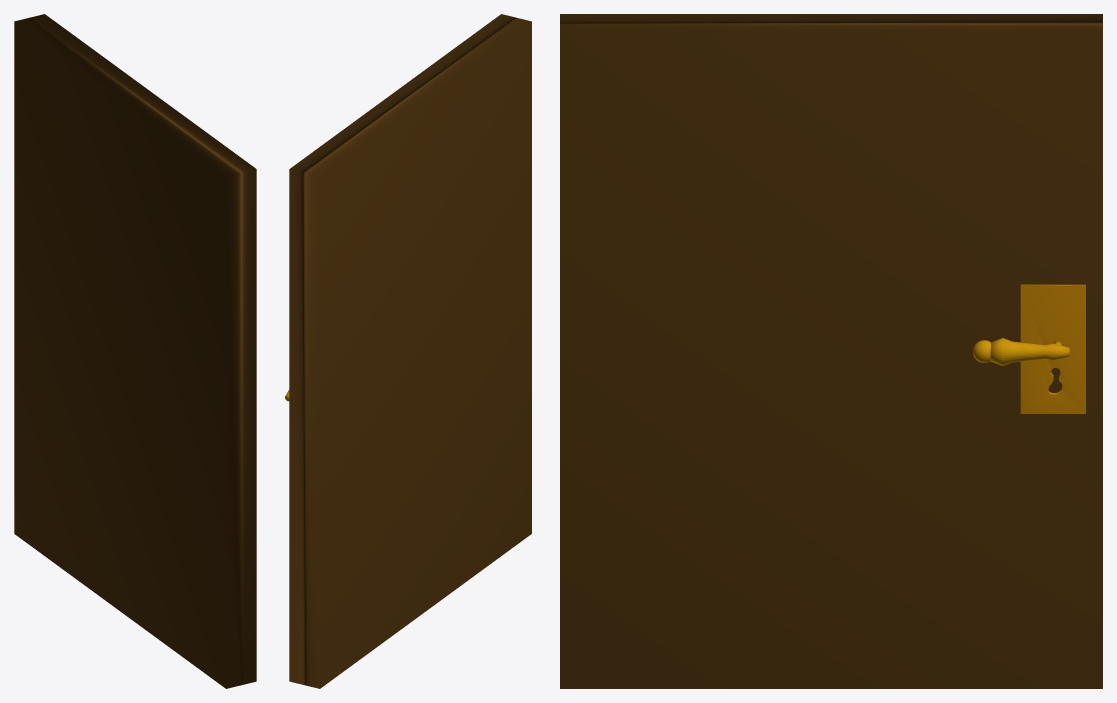
The model's file is Door.glb.
The picture shows the model from 3 angles, left to right: view 1: azimuth 30°, elevation 25°; view 2: azimuth 150°, elevation 25°; view 3: azimuth 270°, elevation 25°; orthographic projection. The views are drawn at different scales.
Visible parts, largest first — view 1: Cube; view 2: Cube; view 3: Cube, Cube.001, Sphere.
Boxes of the visible parts, bbox=[...] form: Cube: bbox=[14, 14, 256, 688]; Cube: bbox=[289, 14, 531, 688]; Cube: bbox=[560, 14, 1102, 688]; Cube.001: bbox=[1020, 284, 1085, 413]; Sphere: bbox=[973, 338, 1069, 365].
Bounding box in the file's own units: 0.446 × 4 × 3.
3 materials, 3 textured.
